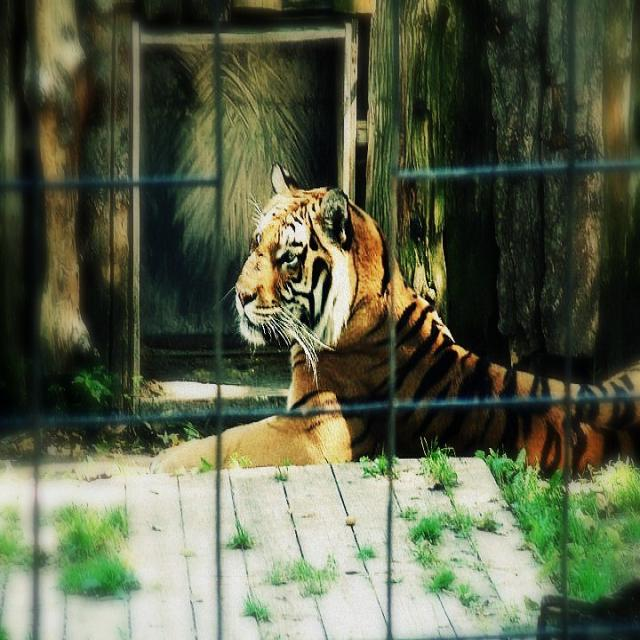Tiger: (145, 157, 636, 487)
